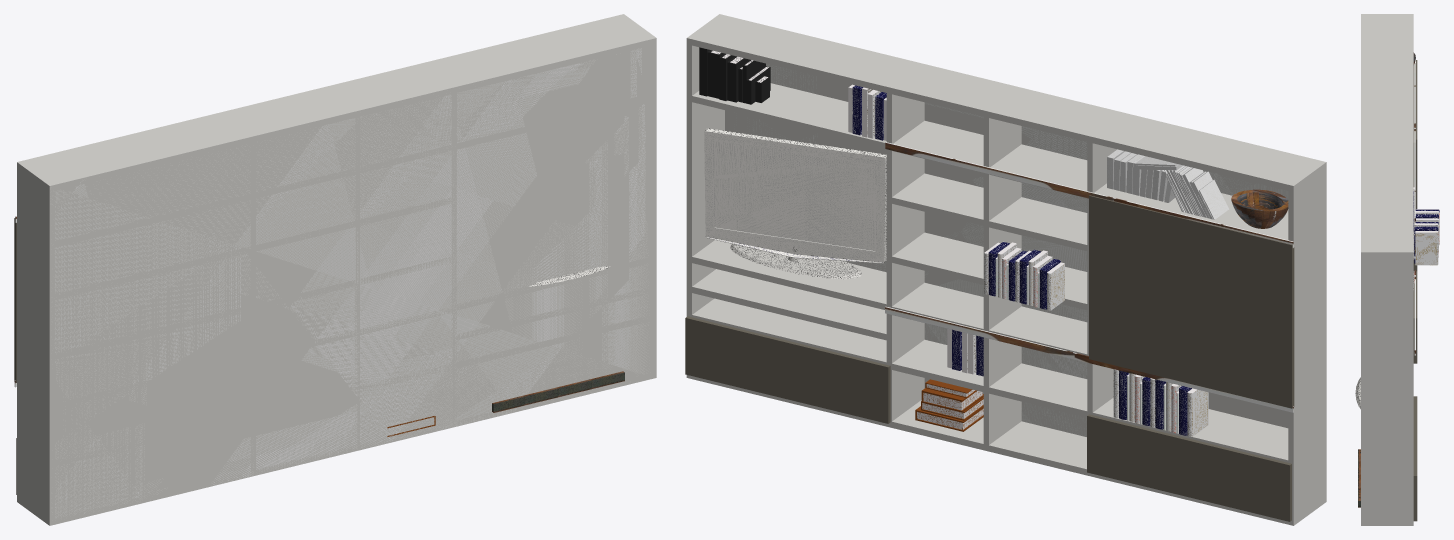
3 views of the same model, side by side, from view 1: azimuth 30°, elevation 25°; view 2: azimuth 150°, elevation 25°; view 3: azimuth 270°, elevation 25° (orthographic). The views are drawn at different scales.
Parts seen in each view (by area): view 1: mesh152_mesh152-geometry, mesh76_mesh76-geometry, mesh82_mesh82-geometry, mesh70_mesh70-geometry, mesh80_mesh80-geometry, mesh78_mesh78-geometry, mesh68_mesh68-geometry, mesh74_mesh74-geometry, mesh72_mesh72-geometry, mesh47_mesh47-geometry; view 2: mesh76_mesh76-geometry, mesh1_mesh1-geometry, mesh70_mesh70-geometry, mesh53_mesh53-geometry, mesh152_mesh152-geometry, mesh82_mesh82-geometry, mesh66_mesh66-geometry, mesh64_mesh64-geometry, mesh80_mesh80-geometry, mesh74_mesh74-geometry, mesh78_mesh78-geometry, mesh68_mesh68-geometry (+13 smaller); view 3: mesh76_mesh76-geometry, mesh82_mesh82-geometry, mesh70_mesh70-geometry, mesh136_mesh136-geometry, mesh1_mesh1-geometry, mesh66_mesh66-geometry, mesh134_mesh134-geometry, mesh64_mesh64-geometry, mesh3_mesh3-geometry, mesh47_mesh47-geometry, mesh133_mesh133-geometry, mesh62_mesh62-geometry (+1 smaller).
Boxes of the visible parts, <box> form: mesh152_mesh152-geometry: <box>50,45,654,524</box>; mesh76_mesh76-geometry: <box>17,14,656,525</box>; mesh82_mesh82-geometry: <box>22,64,451,190</box>; mesh70_mesh70-geometry: <box>424,15,651,426</box>; mesh80_mesh80-geometry: <box>55,256,451,409</box>; mesh78_mesh78-geometry: <box>55,144,451,247</box>; mesh68_mesh68-geometry: <box>55,197,451,300</box>; mesh74_mesh74-geometry: <box>55,364,450,466</box>; mesh72_mesh72-geometry: <box>55,422,450,524</box>; mesh47_mesh47-geometry: <box>492,371,624,412</box>; mesh76_mesh76-geometry: <box>686,14,1326,525</box>; mesh1_mesh1-geometry: <box>1089,195,1294,408</box>; mesh70_mesh70-geometry: <box>692,15,918,426</box>; mesh53_mesh53-geometry: <box>704,128,886,263</box>; mesh152_mesh152-geometry: <box>725,63,1288,436</box>; mesh82_mesh82-geometry: <box>892,64,1320,190</box>; mesh66_mesh66-geometry: <box>685,316,890,423</box>; mesh64_mesh64-geometry: <box>1087,414,1291,521</box>; mesh80_mesh80-geometry: <box>892,232,1087,355</box>; mesh74_mesh74-geometry: <box>892,339,1288,462</box>; mesh78_mesh78-geometry: <box>892,120,1288,239</box>; mesh68_mesh68-geometry: <box>892,173,1087,251</box>; mesh76_mesh76-geometry: <box>1361,14,1413,525</box>; mesh82_mesh82-geometry: <box>1361,16,1413,171</box>; mesh70_mesh70-geometry: <box>1361,174,1413,250</box>; mesh136_mesh136-geometry: <box>1413,218,1438,291</box>; mesh1_mesh1-geometry: <box>1413,60,1417,271</box>; mesh66_mesh66-geometry: <box>1413,396,1417,521</box>; mesh134_mesh134-geometry: <box>1413,211,1438,263</box>; mesh64_mesh64-geometry: <box>1413,271,1417,363</box>; mesh3_mesh3-geometry: <box>1414,60,1415,223</box>; mesh47_mesh47-geometry: <box>1358,449,1360,507</box>; mesh133_mesh133-geometry: <box>1414,209,1439,283</box>; mesh62_mesh62-geometry: <box>1414,270,1415,355</box>.
Bounding box in the file's own units: 0.8745 × 0.4672 × 0.1302.
